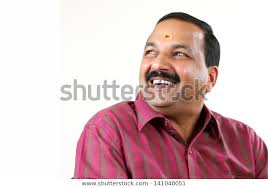Indian_Male: (145, 16, 208, 108)
